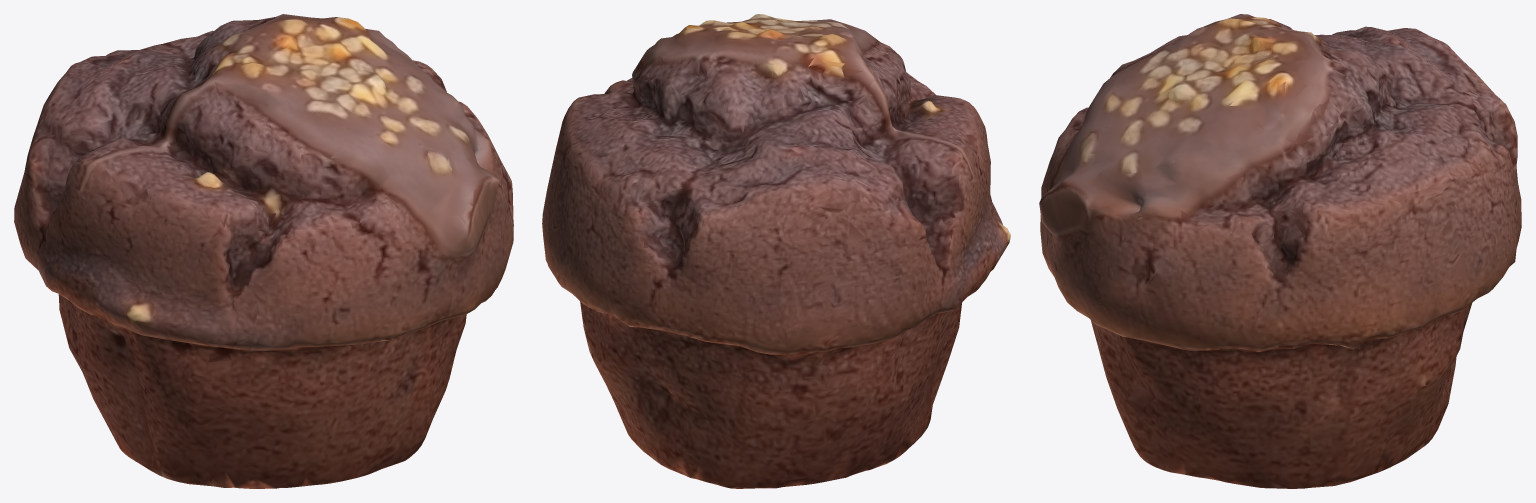
File: muffin_5366.obj
3 views of the same model, side by side, from view 1: azimuth 30°, elevation 25°; view 2: azimuth 150°, elevation 25°; view 3: azimuth 270°, elevation 25° (orthographic). The views are drawn at different scales.
Size of the model in its own units: 14.21 by 13.01 by 14.4.
Materials: 1 (1 with a texture image).
